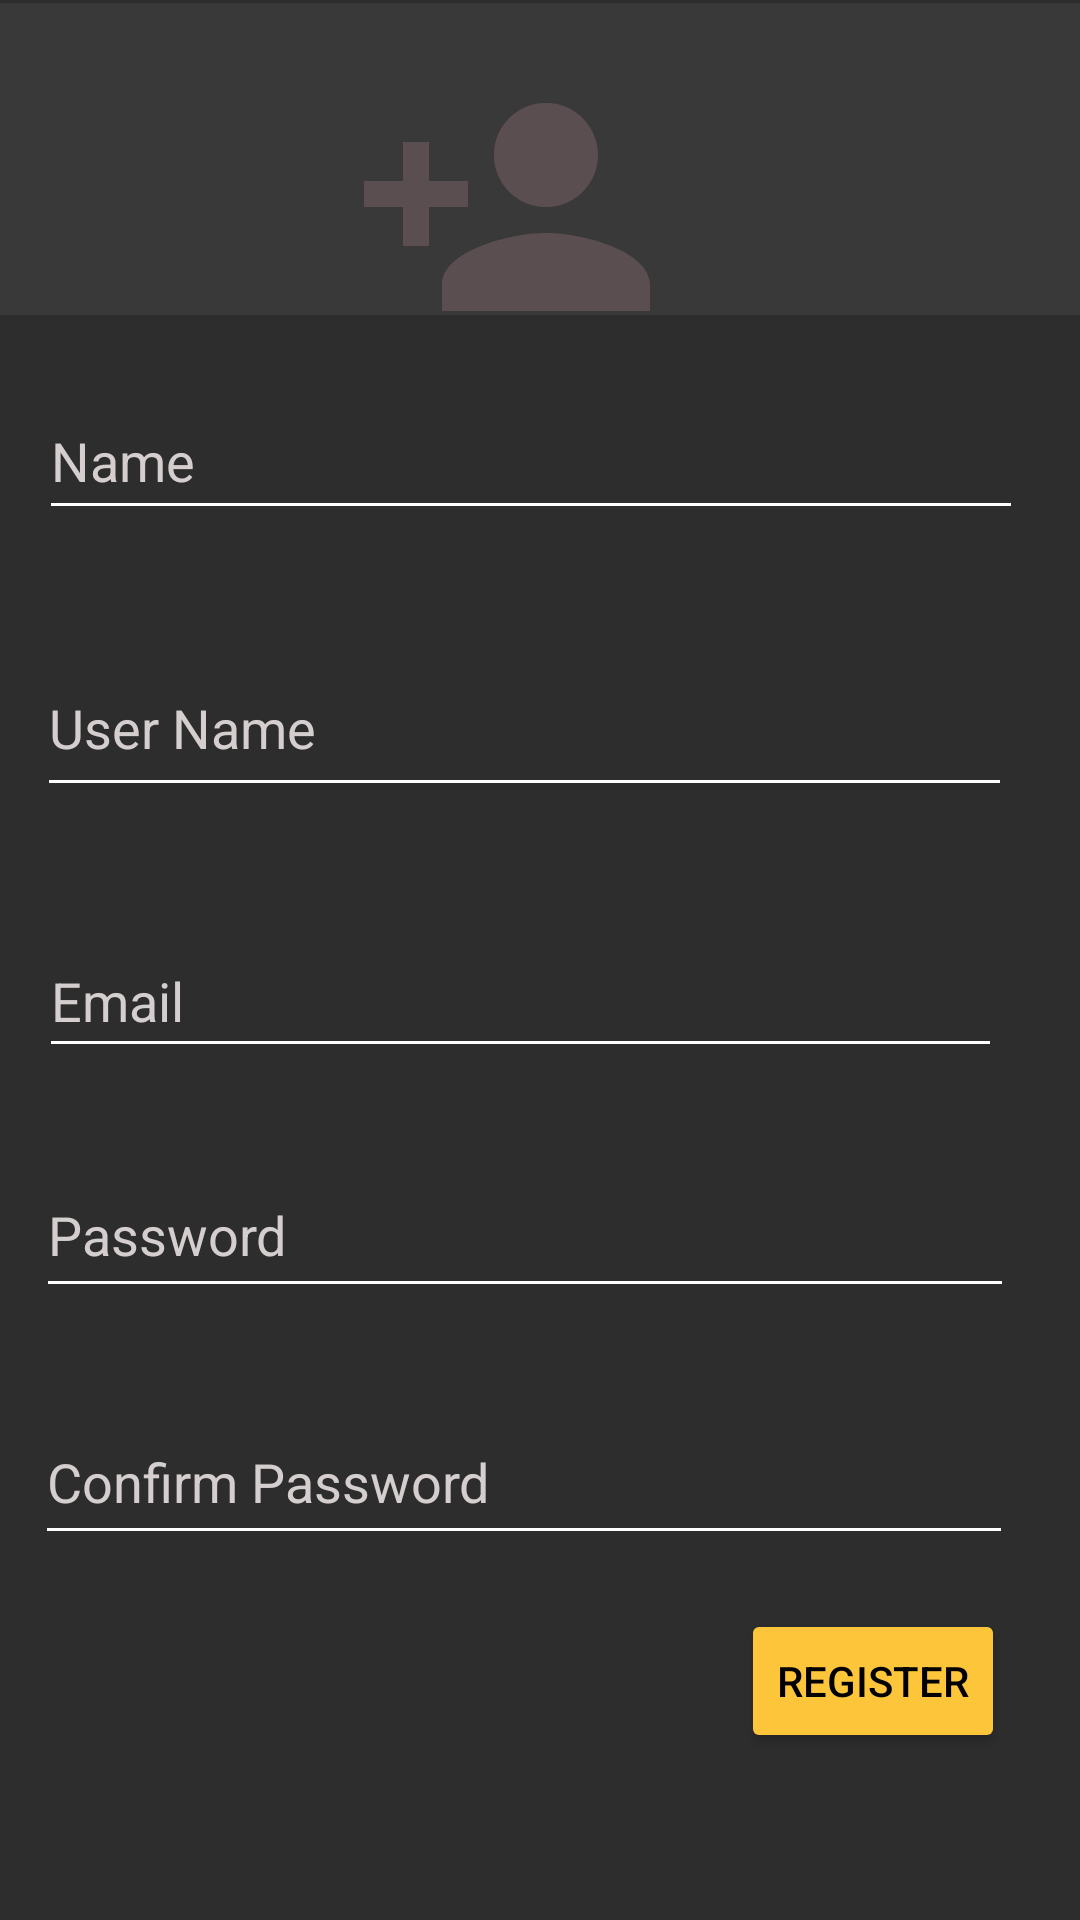

Icons on this 1080 × 1920 Android screen, each with its box as (x1, y1, x2, y2):
person add: (364, 103, 650, 311)
